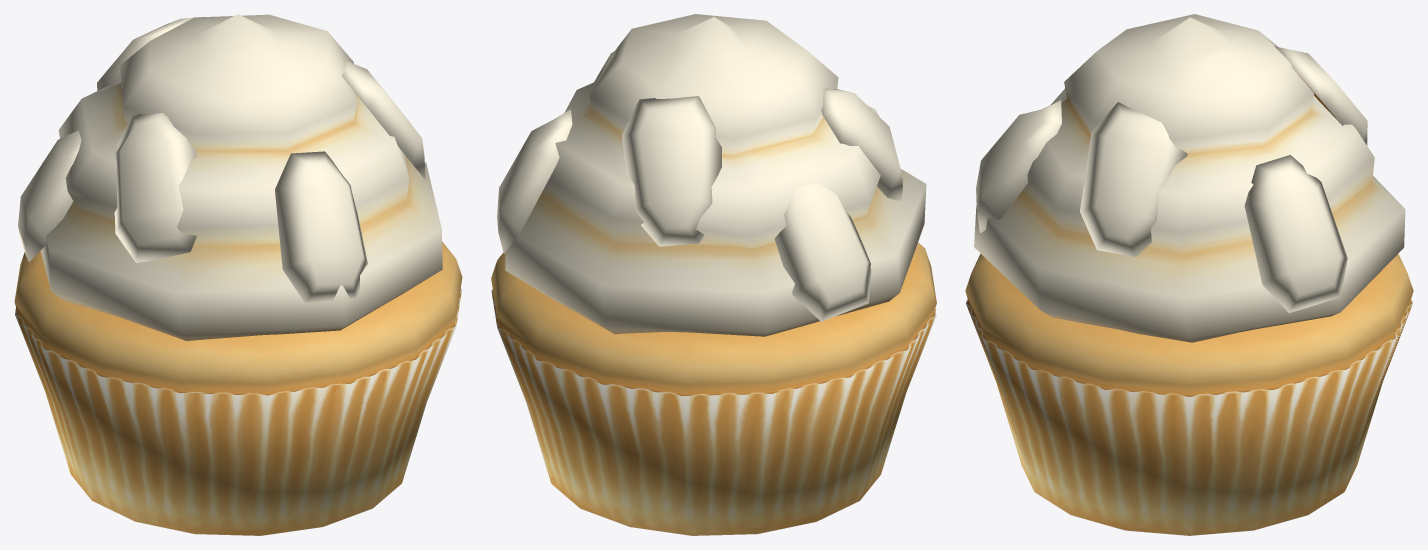
The model's file is cupcakePecan.gltf.
3 renders of one model, left to right at view 1: azimuth 30°, elevation 25°; view 2: azimuth 150°, elevation 25°; view 3: azimuth 270°, elevation 25°, orthographic.
Parts seen in each view (by area): view 1: Pecan; view 2: Pecan; view 3: Pecan.
Boxes of the visible parts, x1,y1,x2,y2 form: Pecan: [14, 14, 462, 535]; Pecan: [491, 14, 936, 535]; Pecan: [965, 14, 1413, 535].
Size of the model in its own units: 1.07 by 1.18 by 1.07.
